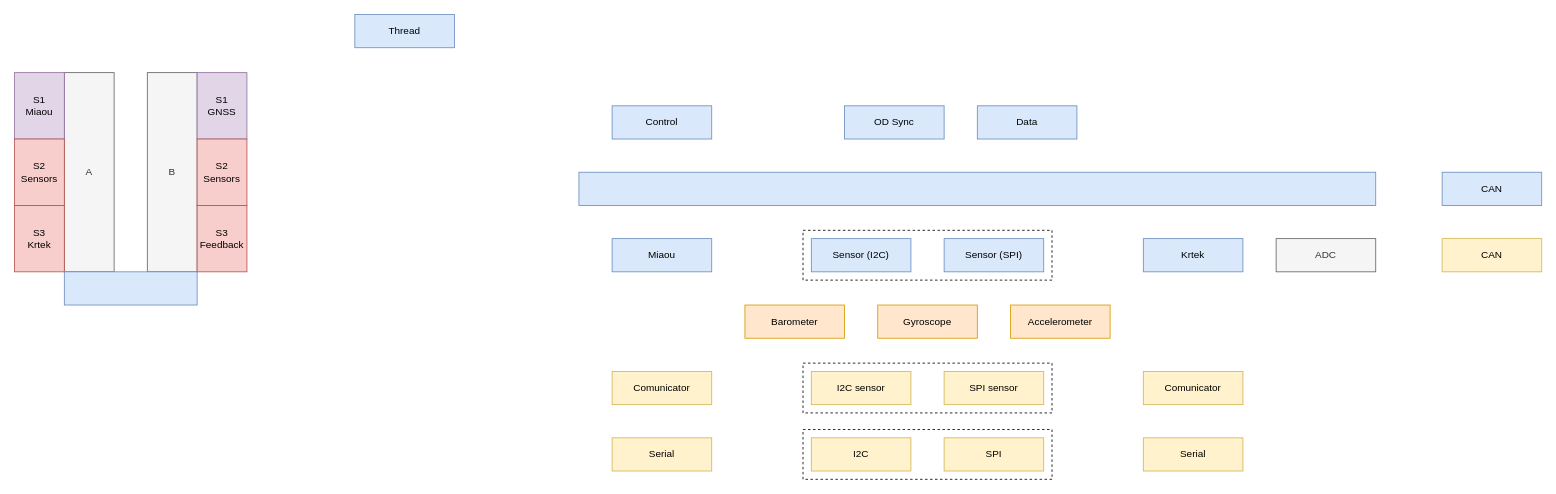
The diagram is 1556 pixels wide and 494 high, and some of its shapes have lost their labels. Here are the shapes that lost their labels. From the top down, the box of each, then its label:
(578, 171, 1376, 205): Object Dictionnary
(63, 271, 197, 305): Power
